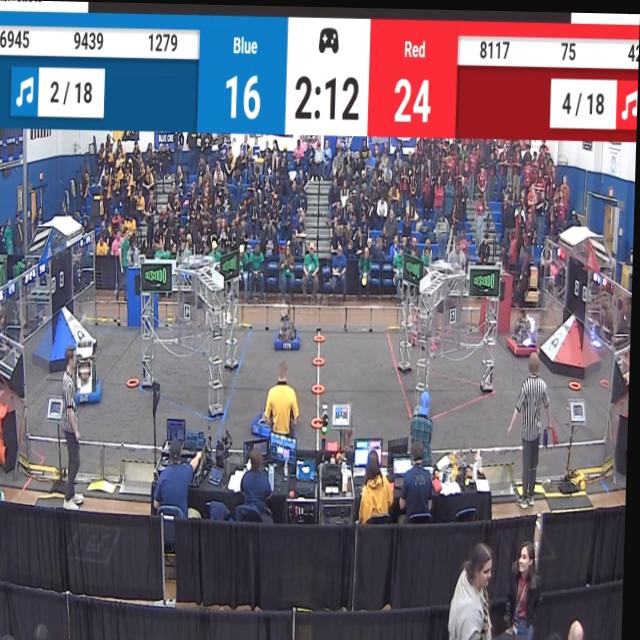Robot: (66, 331, 107, 407), (507, 306, 540, 359), (253, 391, 285, 445), (274, 306, 304, 355)
